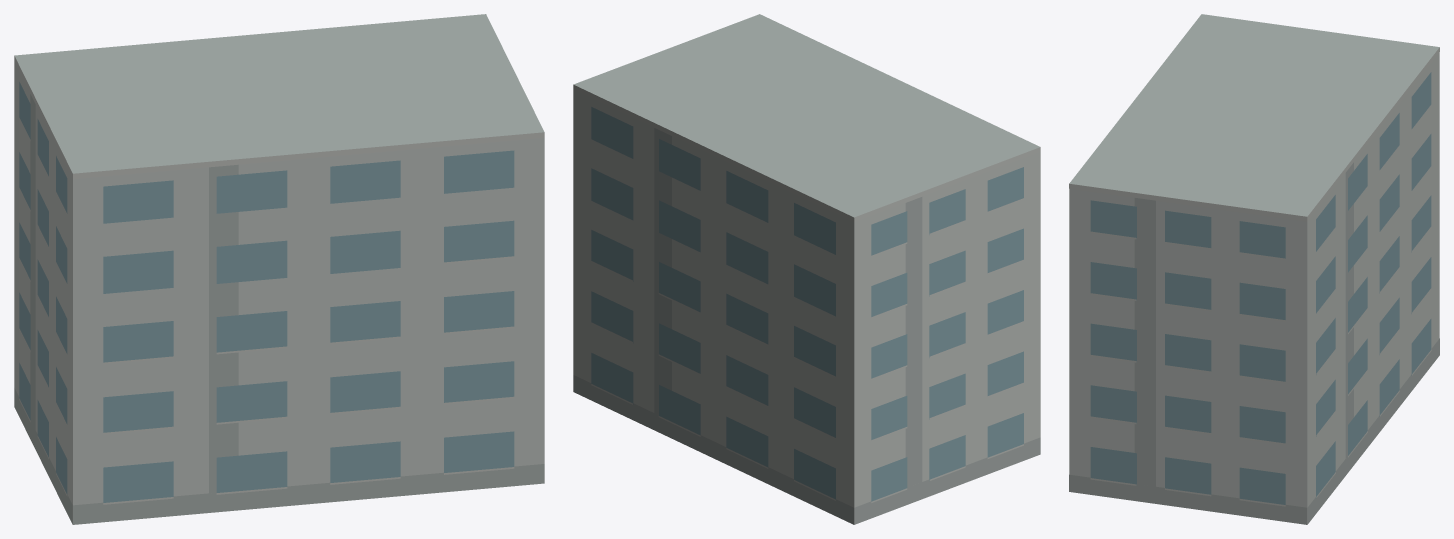
File: survey-upis-32798777.glb
3 views of the same model, side by side, from view 1: azimuth 30°, elevation 25°; view 2: azimuth 150°, elevation 25°; view 3: azimuth 270°, elevation 25° (orthographic). The views are drawn at different scales.
Parts seen in each view (by area): view 1: survey-upis-32798777.tmp; view 2: survey-upis-32798777.tmp; view 3: survey-upis-32798777.tmp.
Boxes of the visible parts, x1=… form: survey-upis-32798777.tmp: x1=14, y1=14, x2=544, y2=524; survey-upis-32798777.tmp: x1=573, y1=14, x2=1040, y2=524; survey-upis-32798777.tmp: x1=1069, y1=14, x2=1439, y2=524.
Size of the model in its own units: 21.53 by 15.25 by 16.63.
